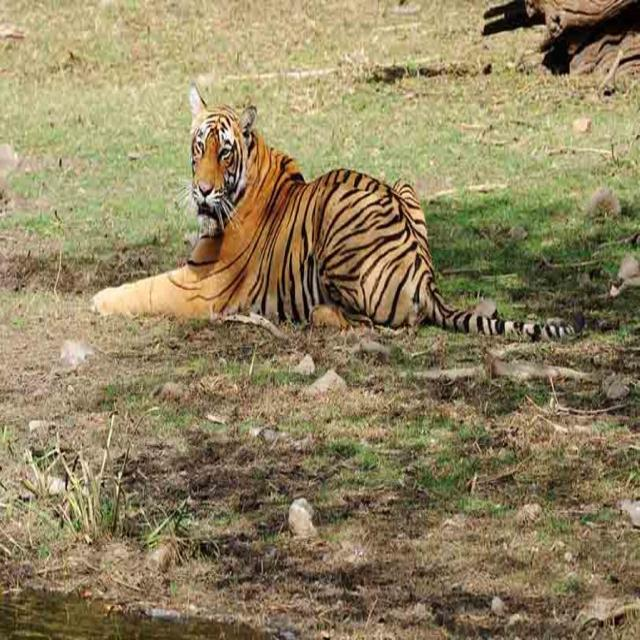Tiger: (90, 79, 576, 342)
